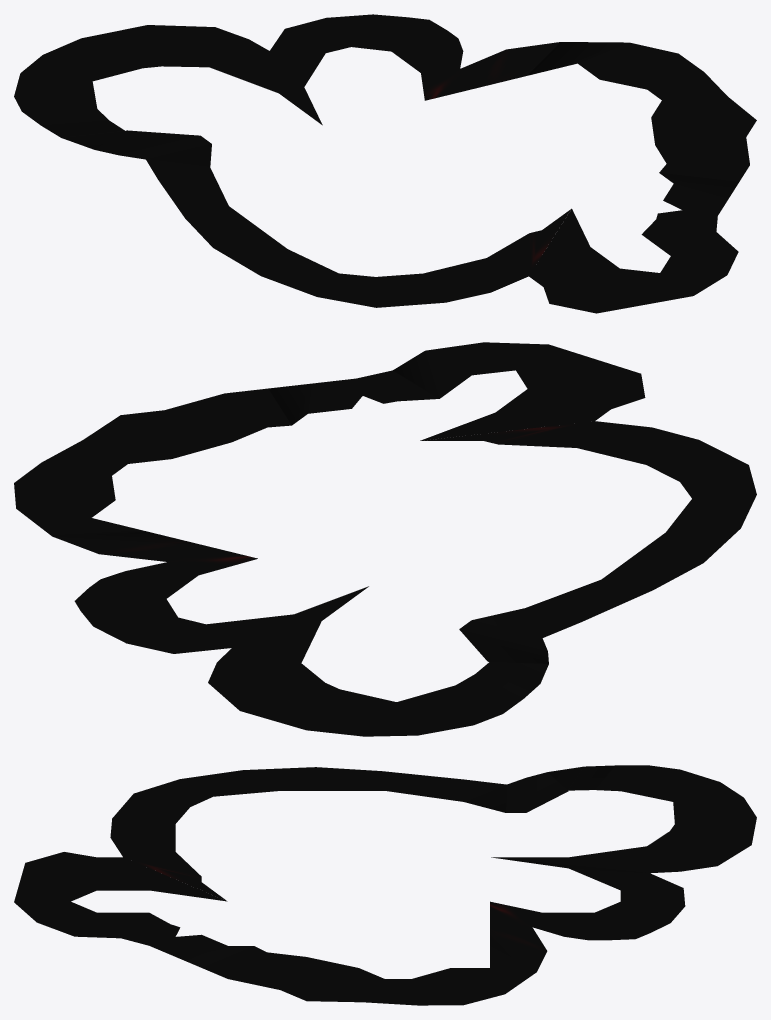
The model's file is shuigaoguang03.FBX.
3 views of the same model, one above another, from view 1: azimuth 30°, elevation 25°; view 2: azimuth 150°, elevation 25°; view 3: azimuth 270°, elevation 25° (orthographic). The views are drawn at different scales.
Parts seen in each view (by area): view 1: dibuaohuanjing08; view 2: dibuaohuanjing08; view 3: dibuaohuanjing08.
Part boxes in pixels (x1,y1,x2,y2): dibuaohuanjing08: (14, 14, 756, 313); dibuaohuanjing08: (14, 342, 756, 736); dibuaohuanjing08: (14, 765, 756, 1005).
Size of the model in its own units: 2169 by 1.5 by 2837.
